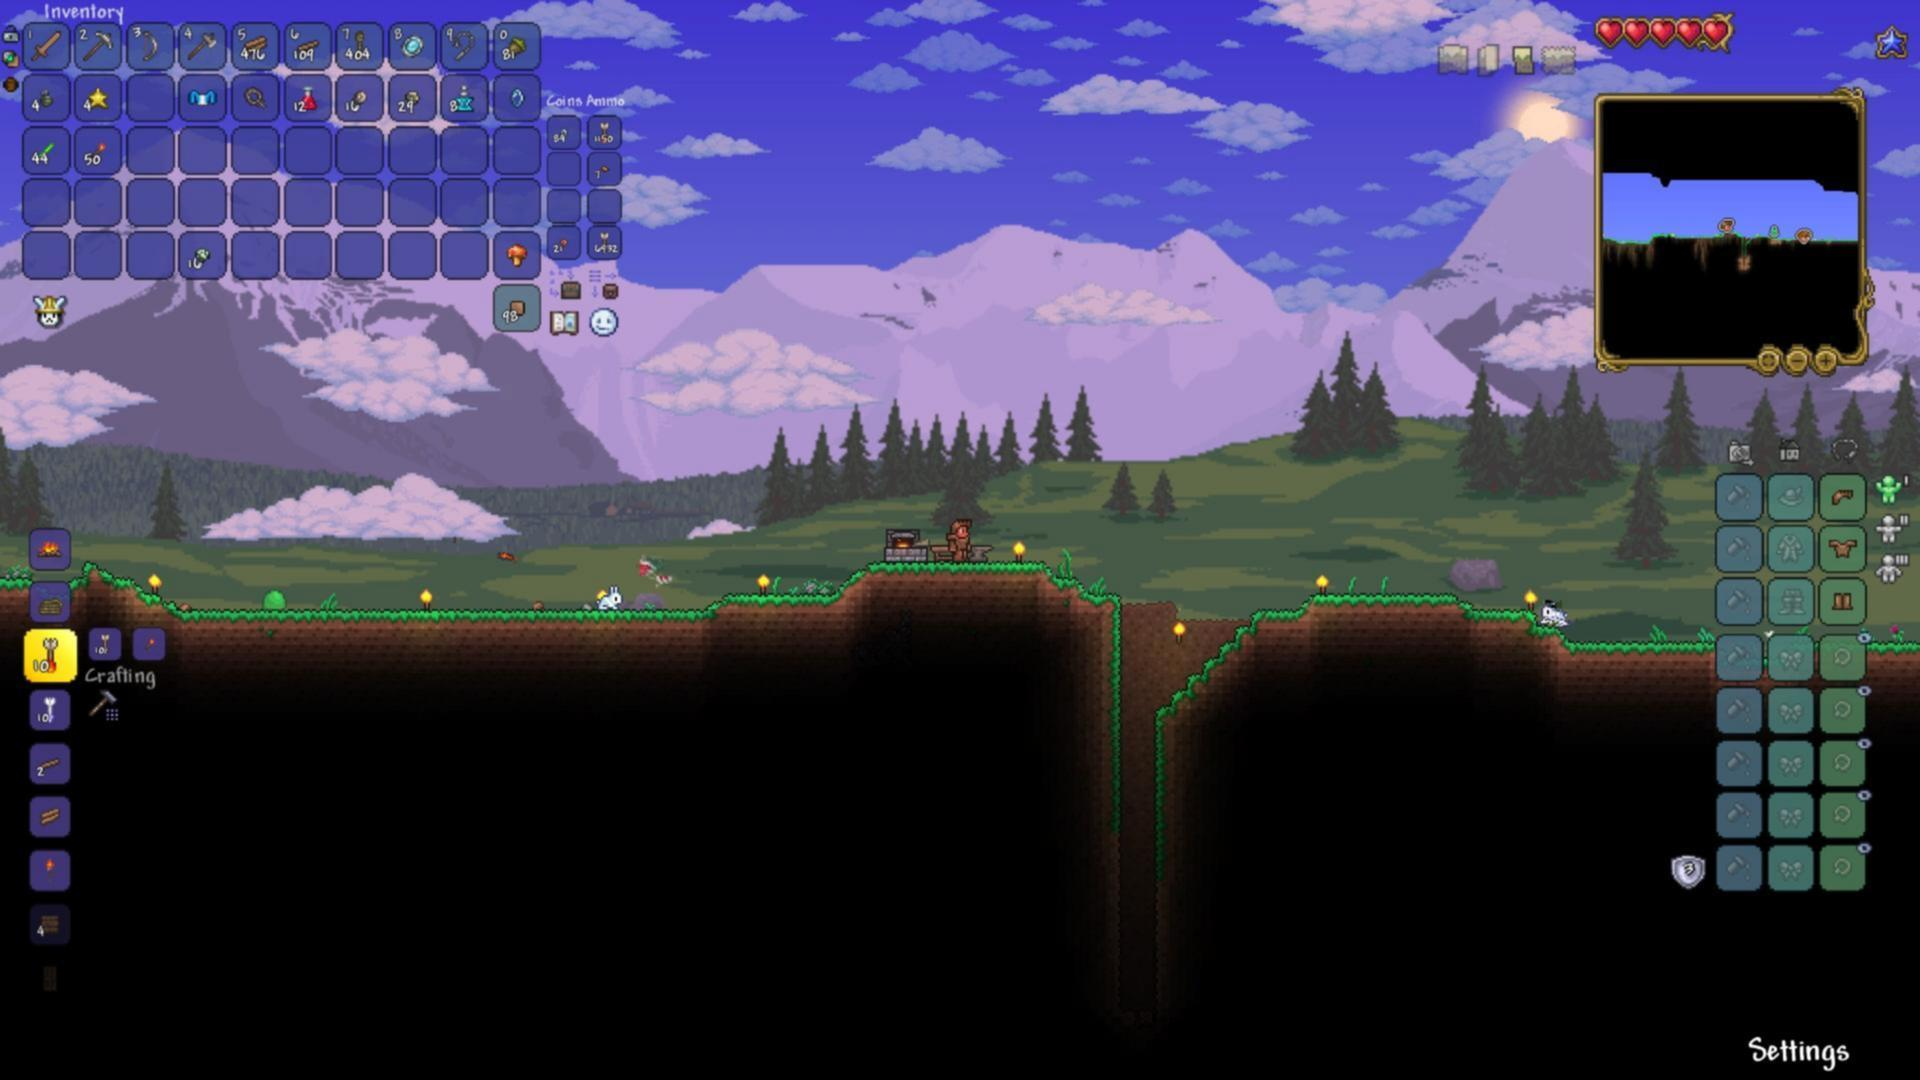anvil: (968, 541, 997, 568)
furnace: (882, 525, 932, 566)
glowstick: (37, 133, 57, 162)
grenade: (36, 83, 54, 108)
potion: (298, 83, 318, 112)
recallP: (452, 83, 476, 116)
slime: (255, 585, 289, 615)
star: (87, 84, 108, 108)
